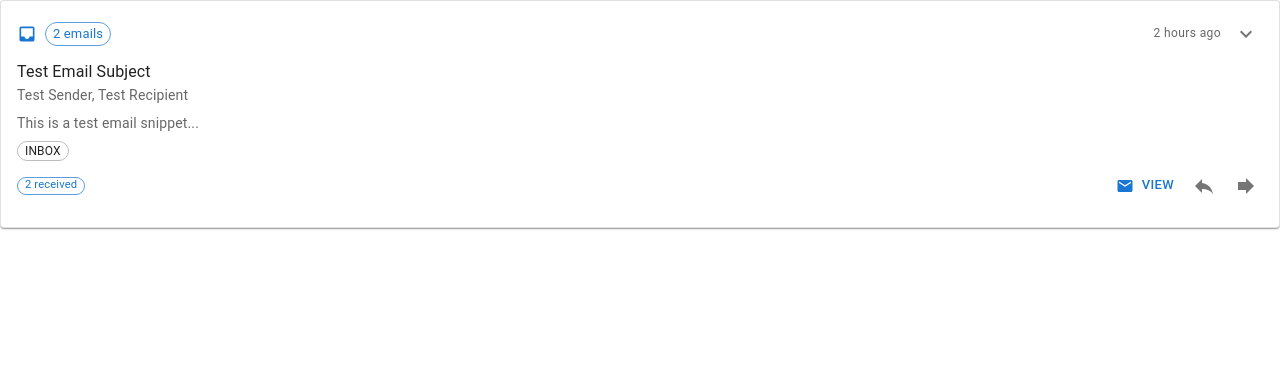
Scenario: EmailTimelineItem › Thread Interaction › should expand/collapse threads correctly
// Find and click expand button
What coordinates should you click on to do the following:
click the button named "Expand thread"
I would click on:
 (1246, 34)
Its box is [1229,17,1263,51].
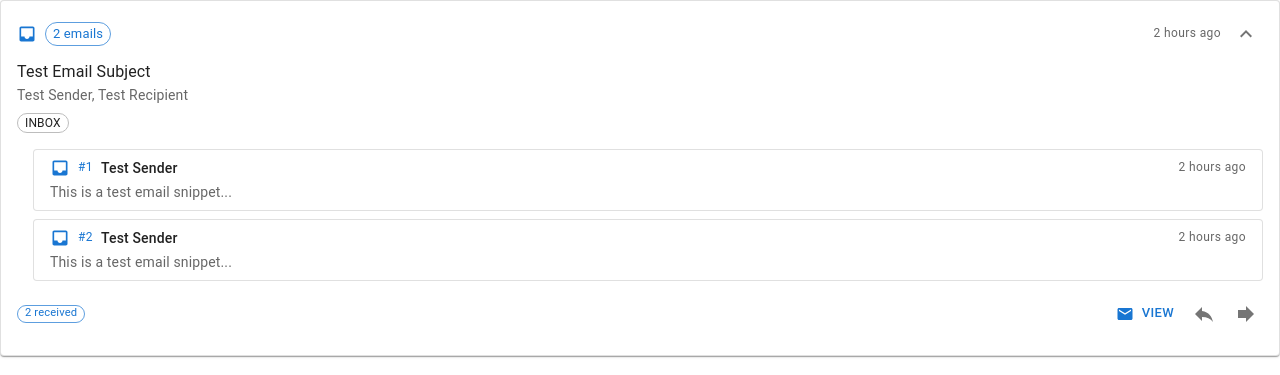
Result: the button named "Collapse thread" is shown at [1229,17,1263,51]
